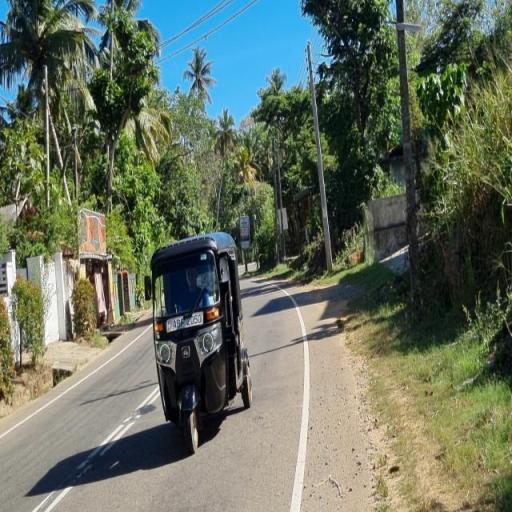double_white_line: (24, 389, 155, 511)
